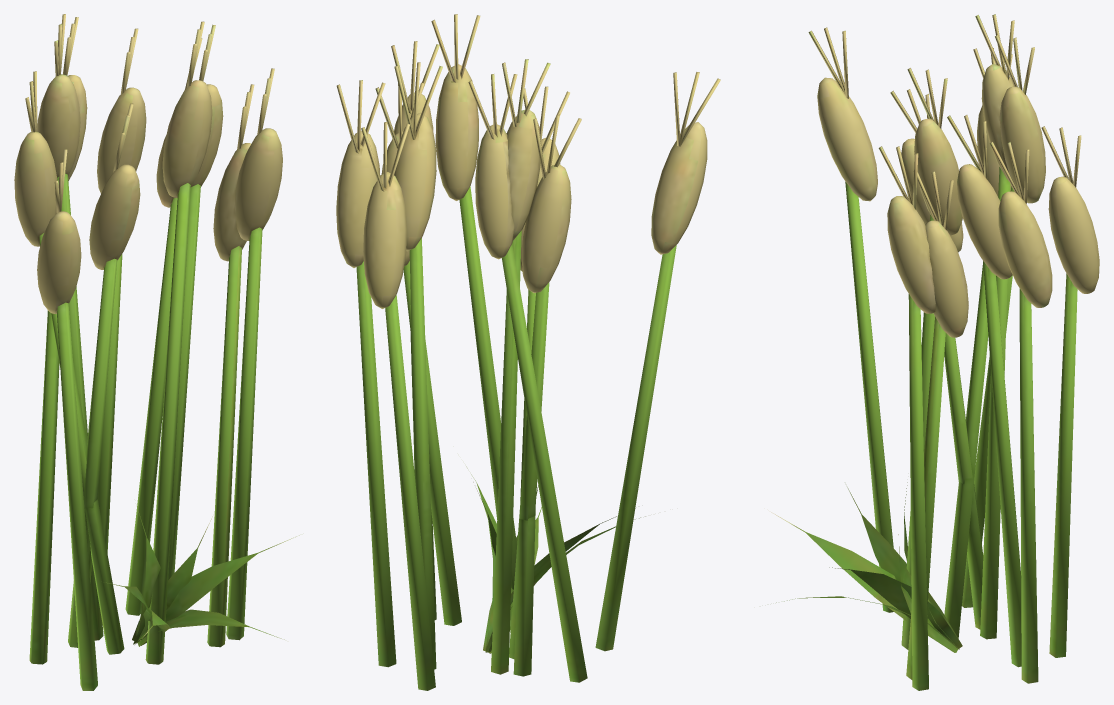
File: crop_millet.glb
3 renders of one model, left to right at view 1: azimuth 30°, elevation 25°; view 2: azimuth 150°, elevation 25°; view 3: azimuth 270°, elevation 25°, orthographic. The views are drawn at different scales.
Visible parts, largest first — view 1: crop_millet, fruit; view 2: crop_millet, fruit; view 3: crop_millet, fruit.
Boxes of the visible parts, x1,y1,x2,y2 form: crop_millet: [29, 173, 299, 690]; fruit: [14, 14, 282, 313]; crop_millet: [356, 186, 676, 690]; fruit: [336, 14, 720, 308]; crop_millet: [771, 167, 1077, 690]; fruit: [808, 14, 1099, 337].
Bounding box in the file's own units: 0.2041 × 0.4404 × 0.2293.
Materials: 1 (1 with a texture image).
